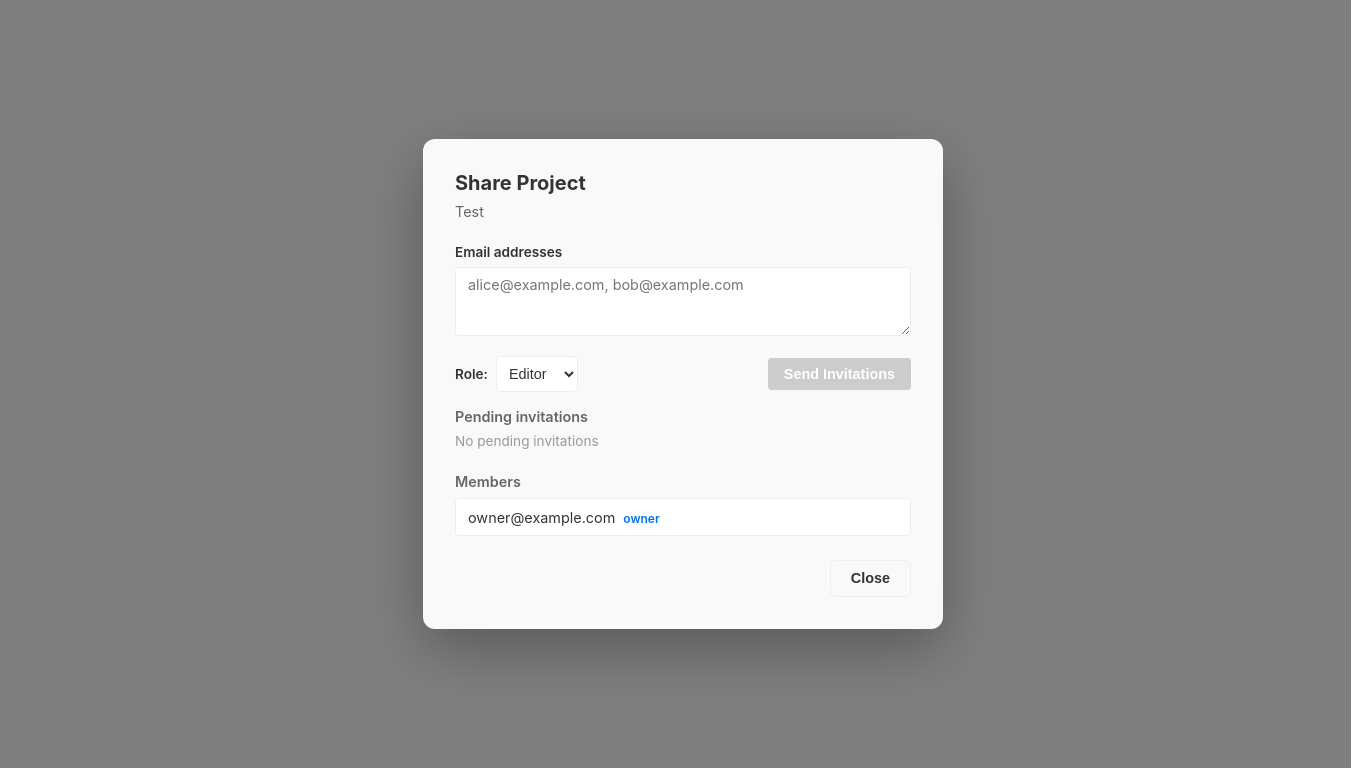
Test: ShareDialog invitations › sending › asks for an address and sends nothing when the entry holds only separators
The width and height of the screenshot is (1366, 768).
Type " , ; " into the text box labelled "Email addresses" at (683, 301), box top-left (455, 267), bottom-right (911, 336)
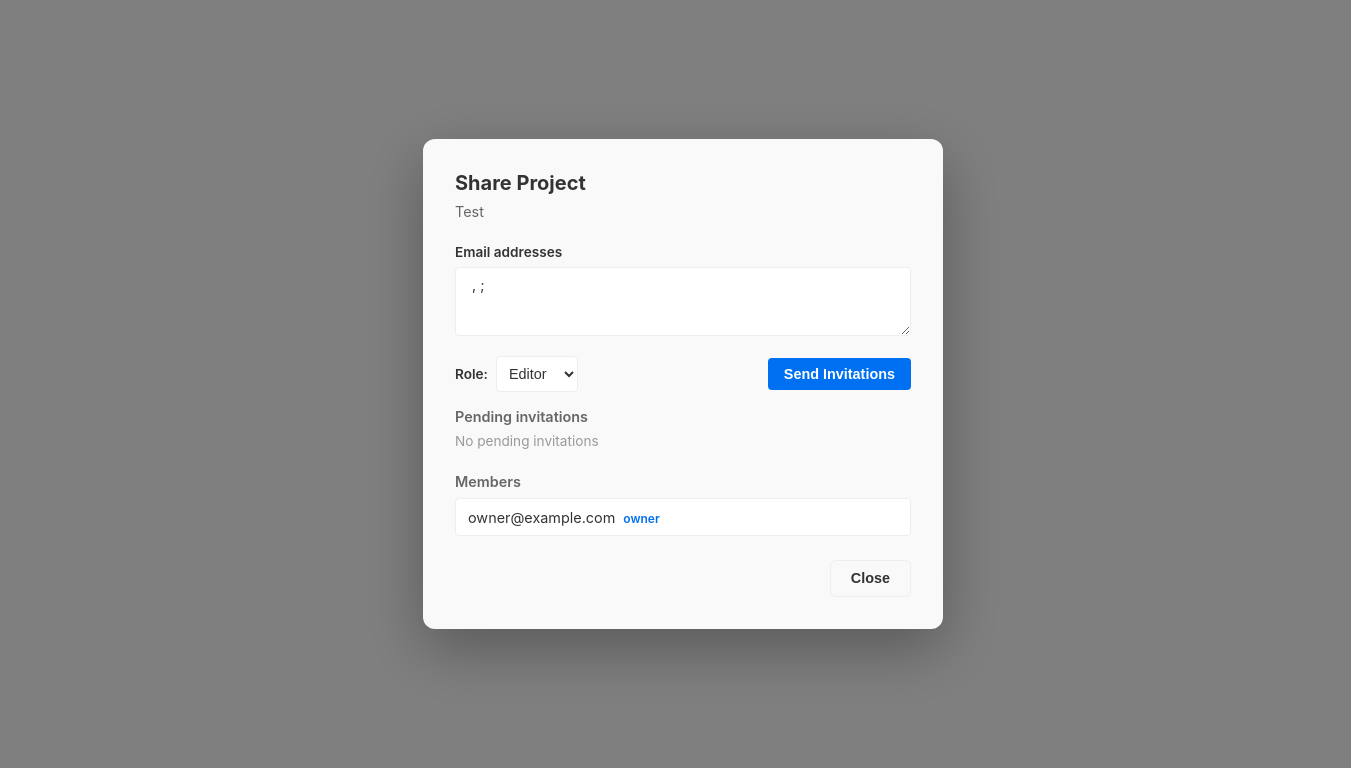
Click the button "Send Invitations" at (839, 374), box top-left (768, 358), bottom-right (911, 390)
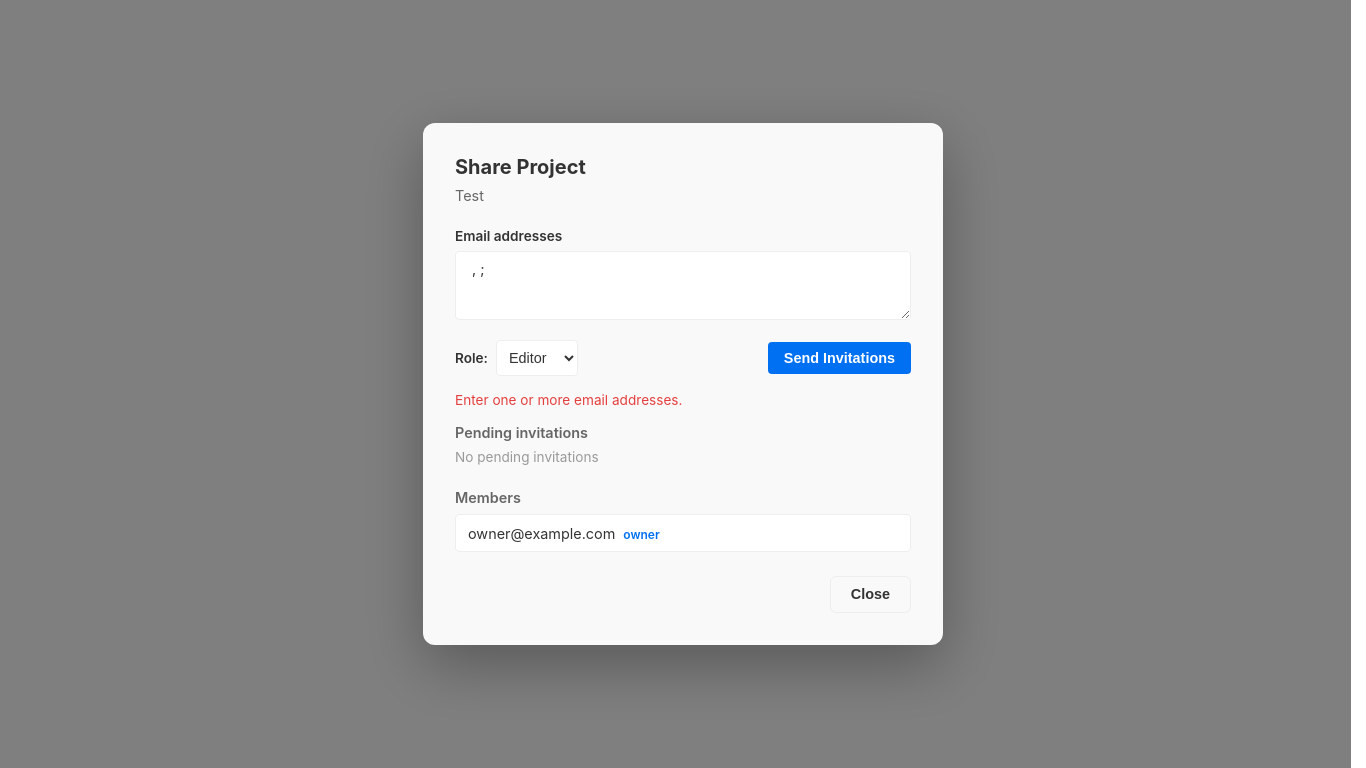
Result: the text "Enter one or more email addresses." is shown at top-left (455, 392), bottom-right (682, 408)
